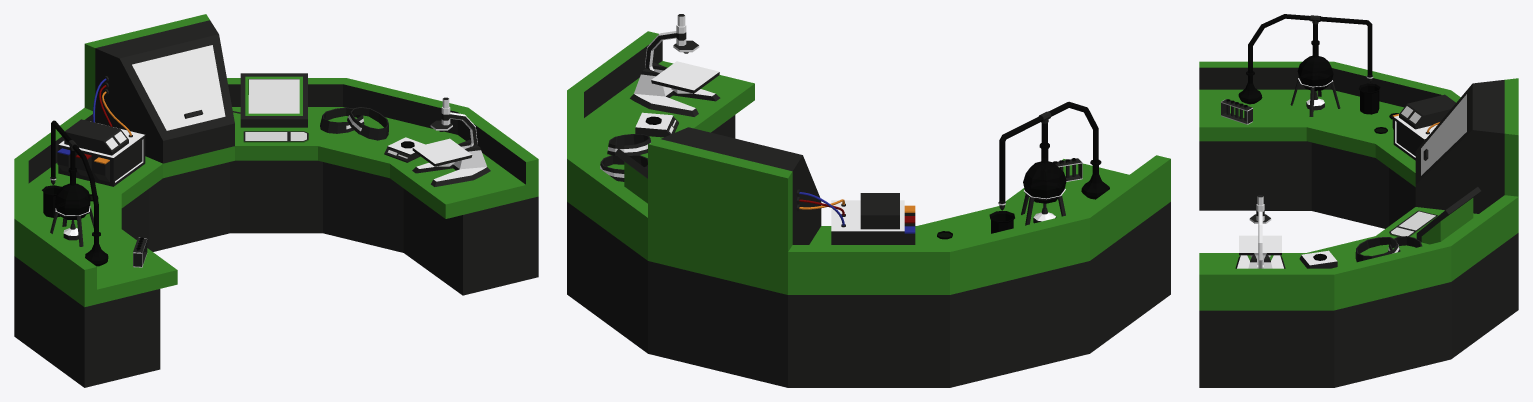
Rendered from Medical_Station.fbx.
The picture shows the model from 3 angles, left to right: view 1: azimuth 30°, elevation 25°; view 2: azimuth 150°, elevation 25°; view 3: azimuth 270°, elevation 25°; orthographic projection. The views are drawn at different scales.
Parts seen in each view (by area): view 1: Medical_Station; view 2: Medical_Station; view 3: Medical_Station.
Part boxes in pixels (x1,y1,x2,y2): Medical_Station: (14, 14, 538, 387); Medical_Station: (567, 14, 1170, 387); Medical_Station: (1199, 14, 1518, 387).
Bounding box in the file's own units: 6.75 × 4.28 × 2.7.
